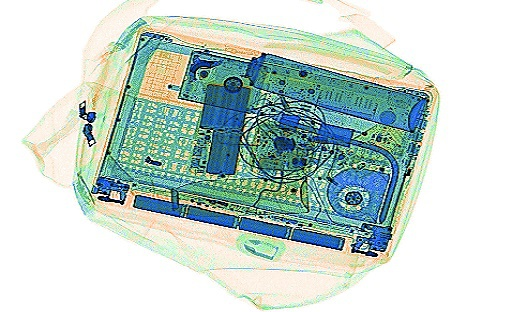powerbank: (186, 81, 251, 178)
pressure: (237, 48, 428, 133), (163, 176, 311, 217)
